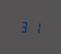one: (30, 20, 40, 34)
three: (19, 19, 29, 33)
